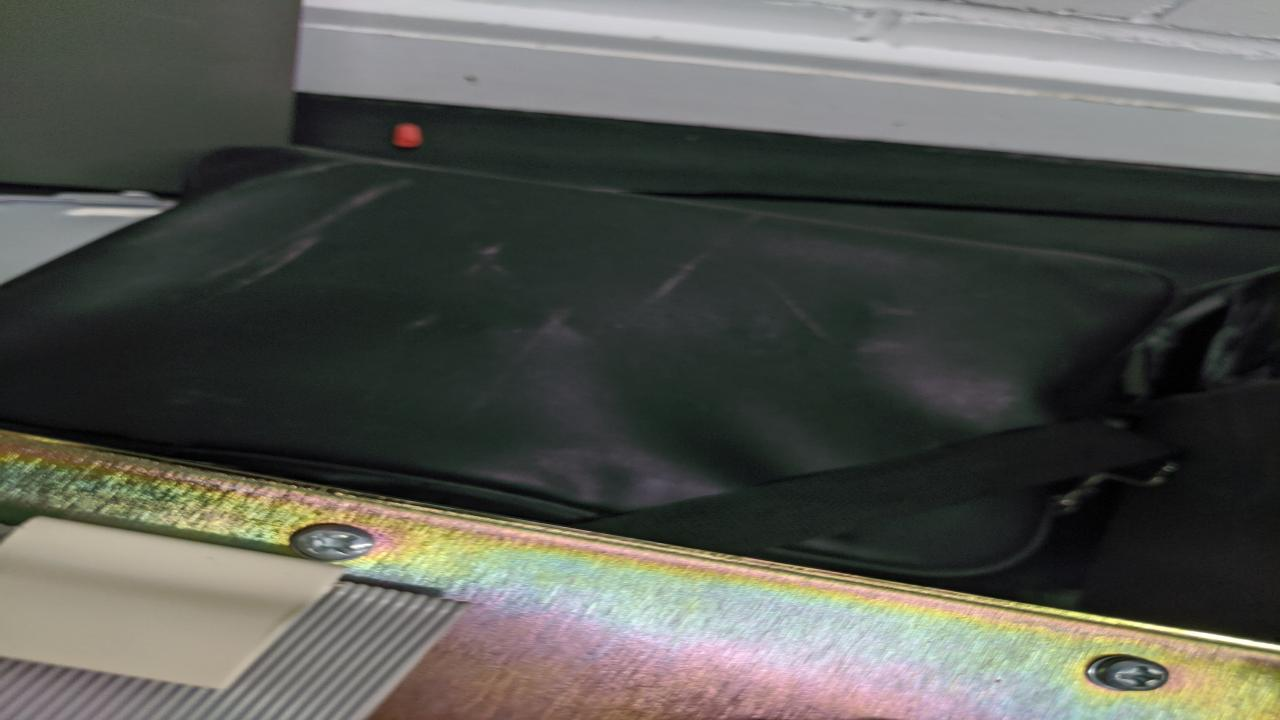CRS: (1094, 655, 1178, 693), (292, 525, 376, 562)
